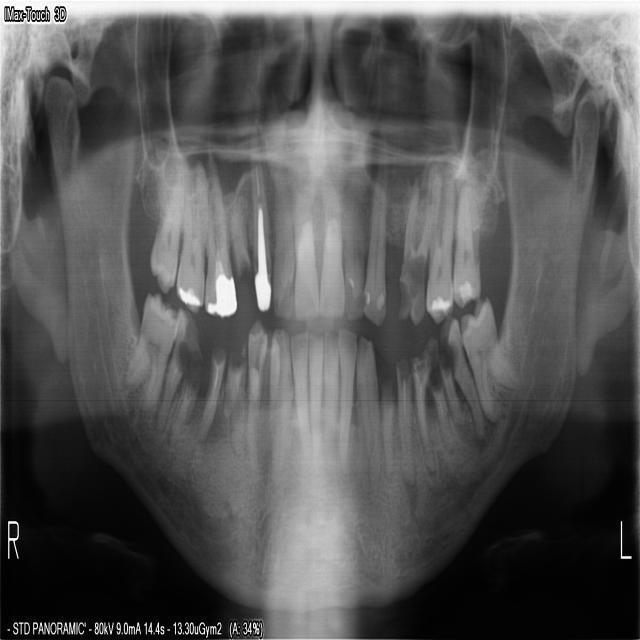LCD: (350, 329, 380, 497)
LCU: (358, 148, 387, 328)
LID: (336, 324, 356, 487), (321, 326, 338, 478)
LIU: (316, 178, 343, 322), (340, 177, 363, 322)
LMD: (455, 292, 519, 425)
LMU: (449, 158, 480, 310)
LPMU: (420, 165, 452, 327)
RCD: (242, 314, 265, 485)
RCU: (248, 138, 271, 312)
RID: (288, 326, 308, 486), (306, 323, 322, 482)
RIU: (291, 169, 317, 325), (269, 168, 294, 320)
RMU: (121, 287, 179, 412), (200, 169, 236, 324), (144, 163, 184, 295), (171, 170, 205, 316)
